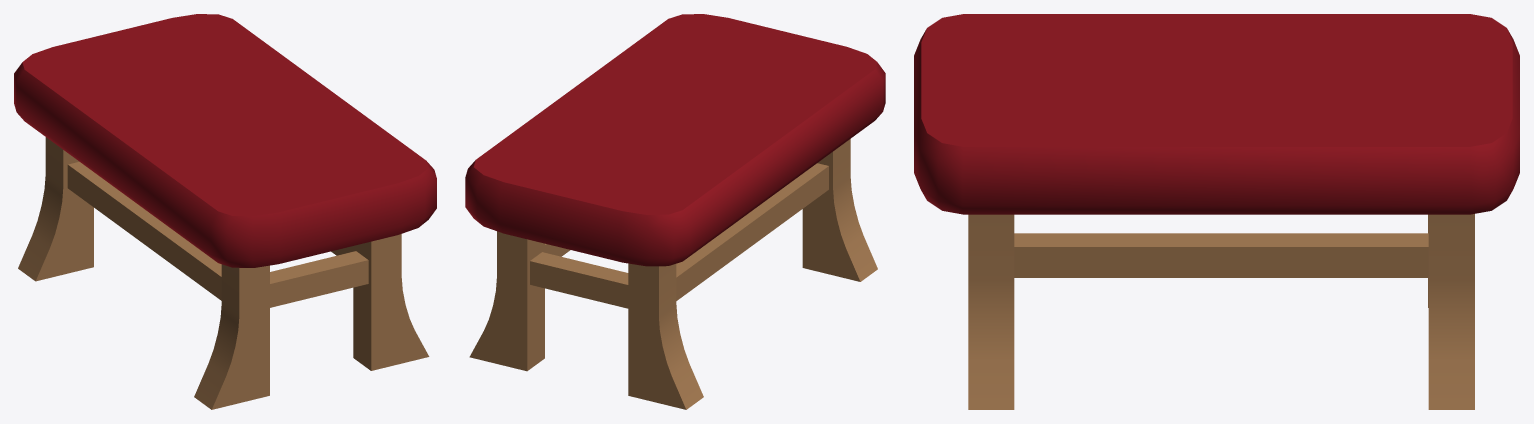
The model's file is bench.glb.
The picture shows the model from 3 angles, left to right: view 1: azimuth 30°, elevation 25°; view 2: azimuth 150°, elevation 25°; view 3: azimuth 270°, elevation 25°; orthographic projection. The views are drawn at different scales.
Parts seen in each view (by area): view 1: Environment_Bench; view 2: Environment_Bench; view 3: Environment_Bench.
Boxes of the visible parts, x1=… form: Environment_Bench: x1=14, y1=14, x2=436, y2=409; Environment_Bench: x1=465, y1=14, x2=885, y2=409; Environment_Bench: x1=914, y1=14, x2=1519, y2=409.
Bounding box in the file's own units: 0.8758 × 0.7441 × 1.57.
Materials: 1 (1 with a texture image).
